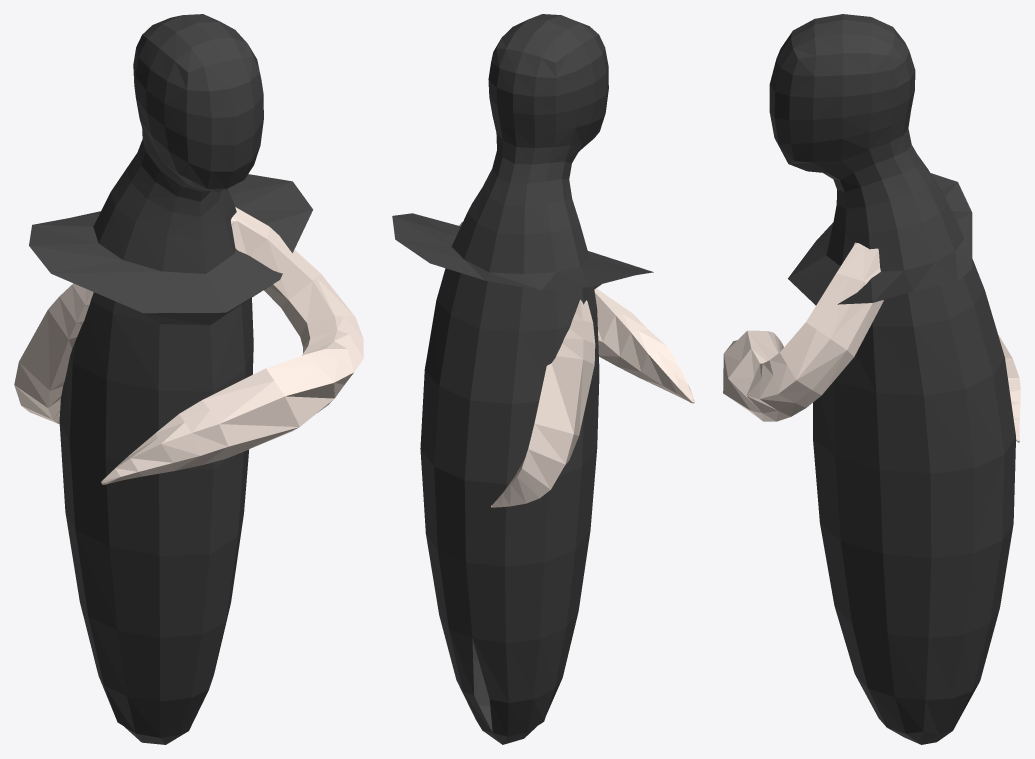
The model's file is waiter.fbx.
3 views of the same model, side by side, from view 1: azimuth 30°, elevation 25°; view 2: azimuth 150°, elevation 25°; view 3: azimuth 270°, elevation 25° (orthographic). The views are drawn at different scales.
Parts seen in each view (by area): view 1: s.0285, s.0303, s.0304; view 2: s.0285, s.0304, s.0303; view 3: s.0285, s.0303, s.0304.
Part boxes in pixels (x1,y1,x2,y2): s.0285: [29, 14, 313, 744]; s.0303: [101, 207, 363, 484]; s.0304: [14, 283, 93, 423]; s.0285: [392, 14, 653, 744]; s.0304: [491, 299, 595, 507]; s.0303: [459, 222, 694, 403]; s.0285: [769, 14, 1015, 744]; s.0303: [723, 242, 883, 421]; s.0304: [998, 335, 1020, 442].
Size of the model in its own units: 0.2968 by 0.2991 by 0.8007.
